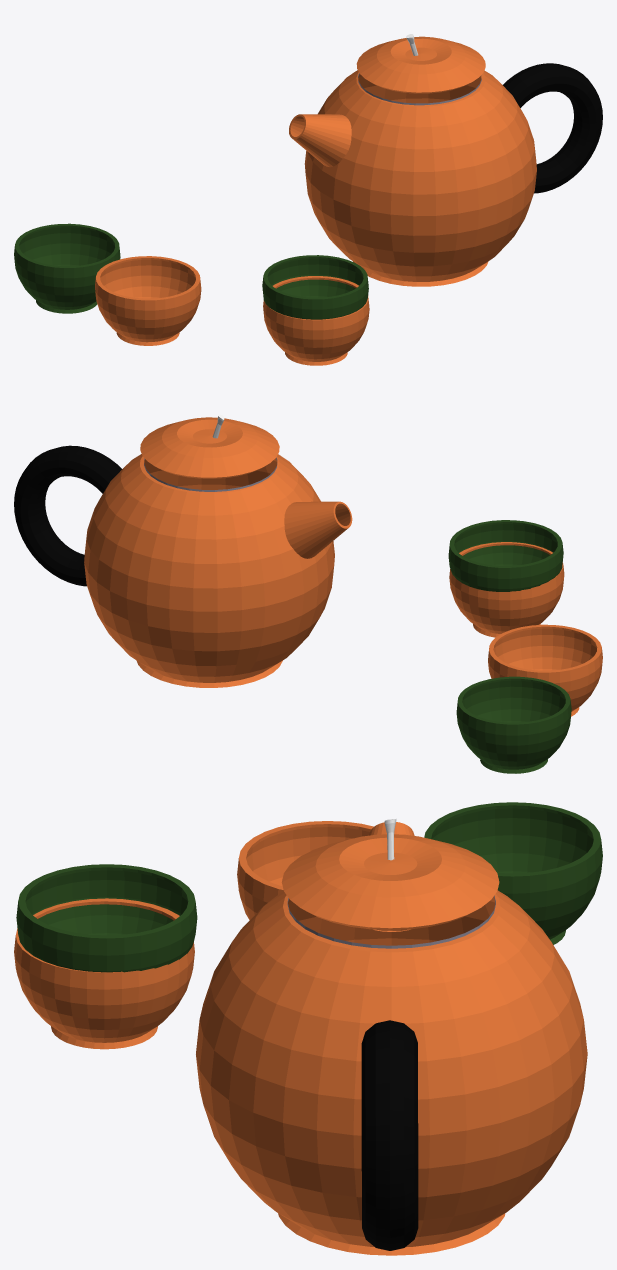
Rendered from teacup2.glb.
3 views of the same model, one above another, from view 1: azimuth 30°, elevation 25°; view 2: azimuth 150°, elevation 25°; view 3: azimuth 270°, elevation 25° (orthographic). The views are drawn at different scales.
Visible parts, largest first — view 1: pot, Cups.003, Cups.001, handle, lid, Cups.004, Cups, Circle; view 2: pot, Cups.001, Cups.004, lid, handle, Cups.003, Cups, Circle; view 3: pot, lid, Cups.004, Cups.001, handle, Cups, Cups.003, metal part.
Part boxes in pixels (bbox=[...]): pot: bbox=[304, 70, 536, 286]; Cups.003: bbox=[95, 256, 201, 345]; Cups.001: bbox=[14, 223, 120, 313]; handle: bbox=[503, 63, 602, 193]; lid: bbox=[356, 36, 485, 93]; Cups.004: bbox=[262, 255, 368, 319]; Cups: bbox=[263, 276, 369, 365]; Circle: bbox=[289, 114, 351, 167]; pot: bbox=[84, 454, 334, 687]; Cups.001: bbox=[456, 676, 571, 773]; Cups.004: bbox=[448, 520, 563, 591]; lid: bbox=[140, 417, 279, 478]; handle: bbox=[14, 445, 121, 586]; Cups.003: bbox=[488, 624, 602, 716]; Cups: bbox=[449, 542, 564, 637]; Circle: bbox=[284, 501, 352, 558]; pot: bbox=[196, 890, 587, 1255]; lid: bbox=[281, 834, 499, 930]; Cups.004: bbox=[16, 864, 197, 972]; Cups.001: bbox=[424, 802, 602, 944]; handle: bbox=[361, 1020, 418, 1250]; Cups: bbox=[14, 898, 194, 1049]; Cups.003: bbox=[237, 821, 373, 920]; metal part: bbox=[287, 895, 495, 948].
Size of the model in its own units: 5.39 by 2.27 by 3.01.
